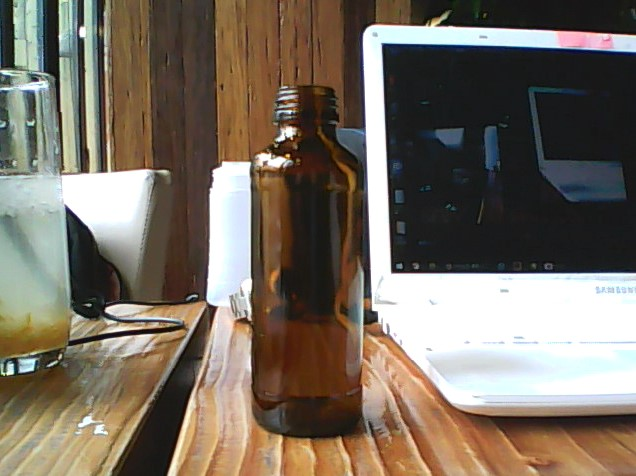Glass: (247, 79, 369, 444)
